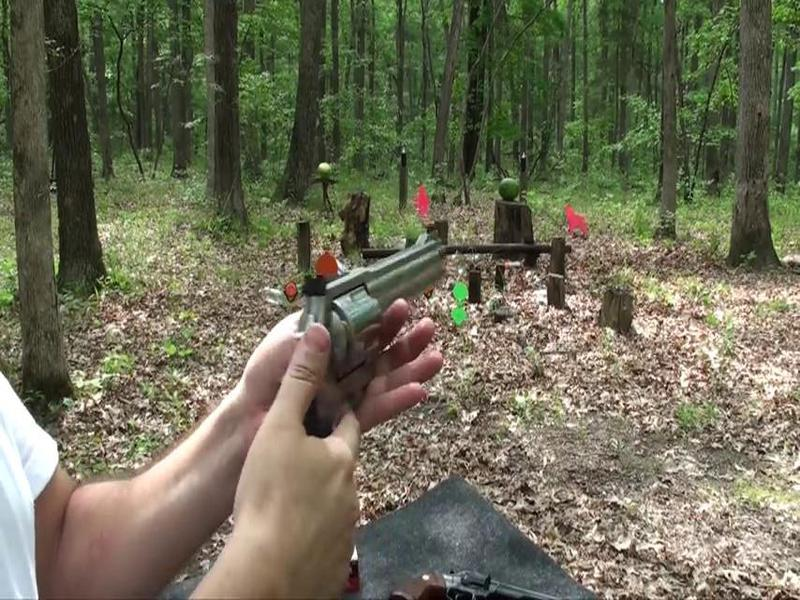Revolver: (230, 211, 455, 464)
